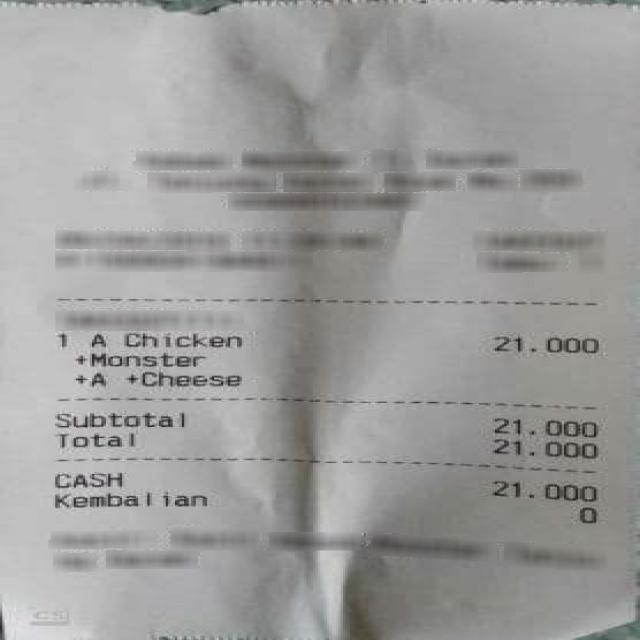kertas: (5, 1, 638, 640)
